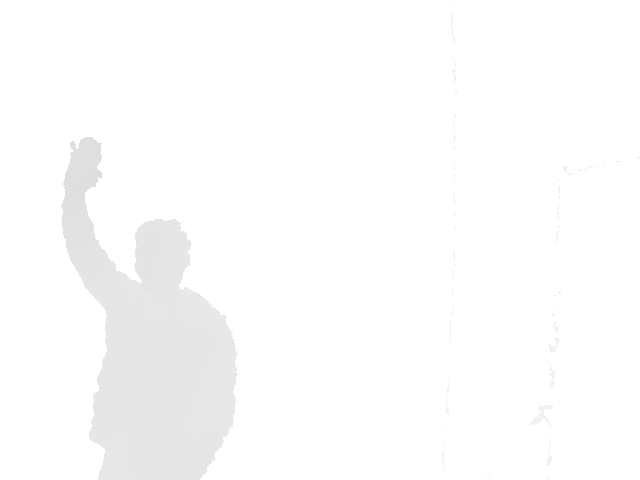hand: (61, 135, 104, 197)
head: (134, 218, 192, 292)
person: (61, 135, 239, 479)
